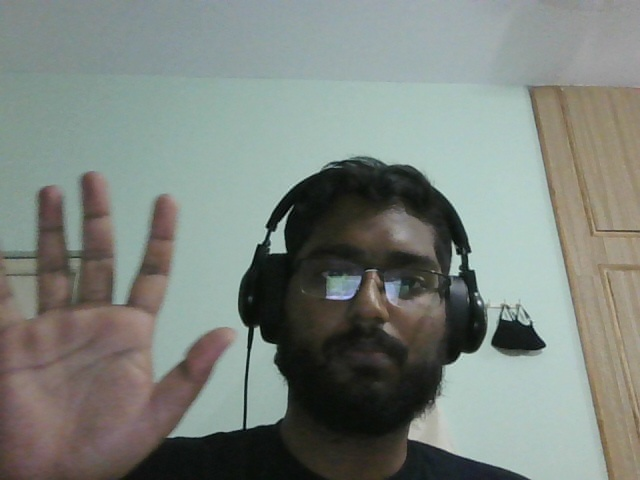Hello: (1, 168, 238, 479)
